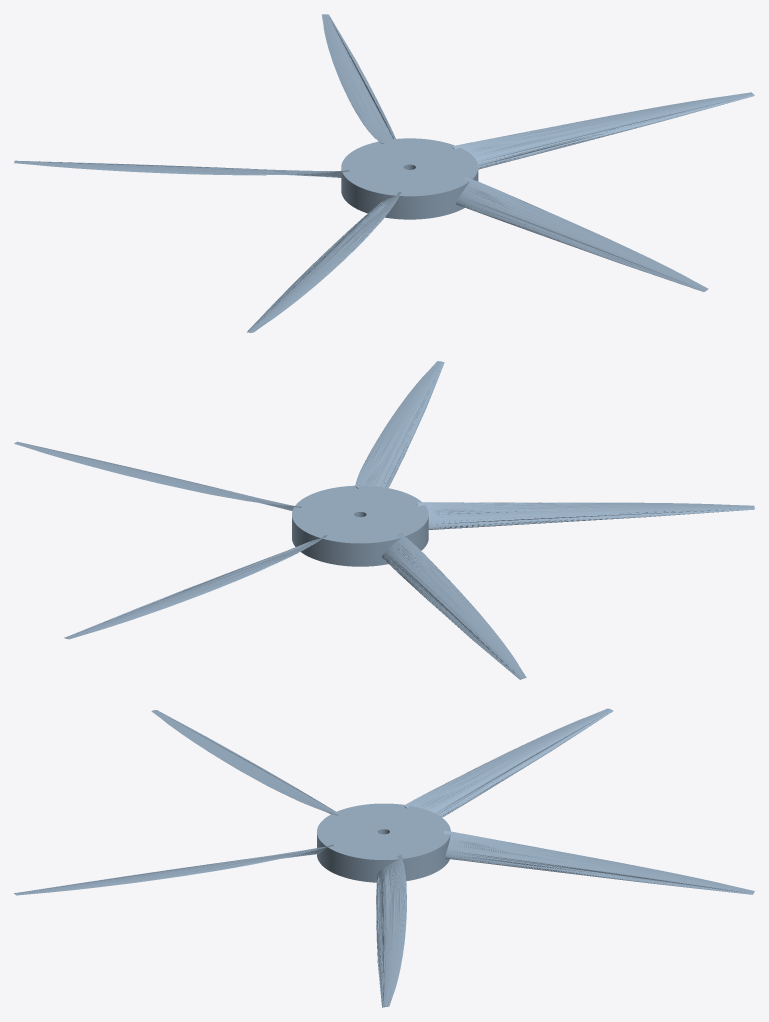
3 renders of one model, top to bottom at view 1: azimuth 30°, elevation 25°; view 2: azimuth 150°, elevation 25°; view 3: azimuth 270°, elevation 25°, orthographic. The views are drawn at different scales.
Parts seen in each view (by area): view 1: 15in-5b.stl; view 2: 15in-5b.stl; view 3: 15in-5b.stl.
Part boxes in pixels (x1,y1,x2,y2): 15in-5b.stl: (14, 14, 754, 332); 15in-5b.stl: (14, 361, 754, 679); 15in-5b.stl: (14, 708, 754, 1007).
Size of the model in its own units: 0.3462 by 0.0134 by 0.3635.
